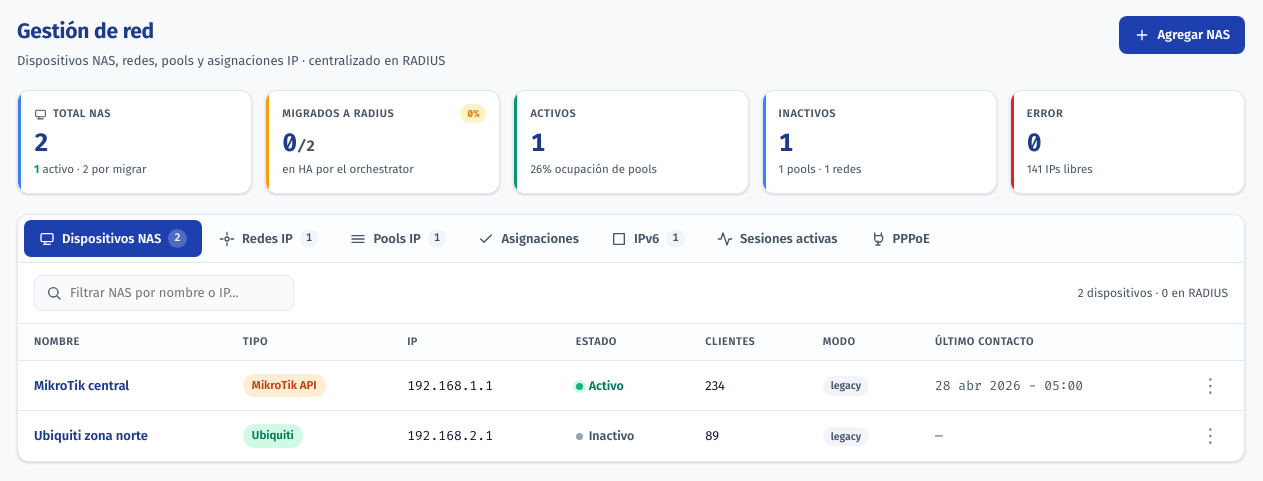
Test: Asignaciones tab — server-side paginated shape › shows "No se encontraron asignaciones." when paginated data is empty
Click the button "Asignaciones": (529, 239) x1=463 y1=220 x2=594 y2=257
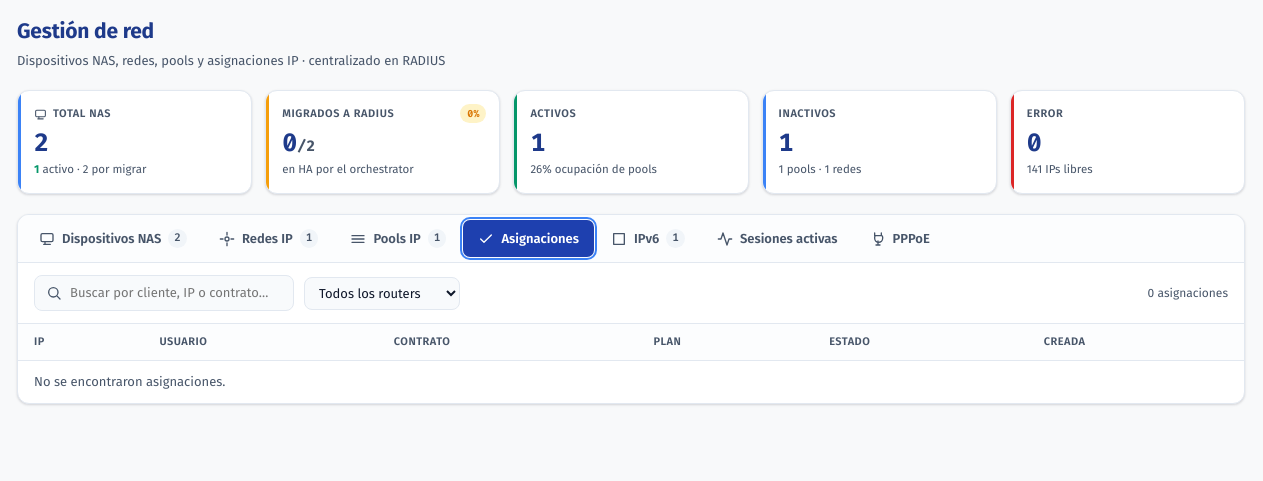
expect the text "No se encontraron asignaciones." is shown: met, box x1=18 y1=361 x2=1244 y2=403
